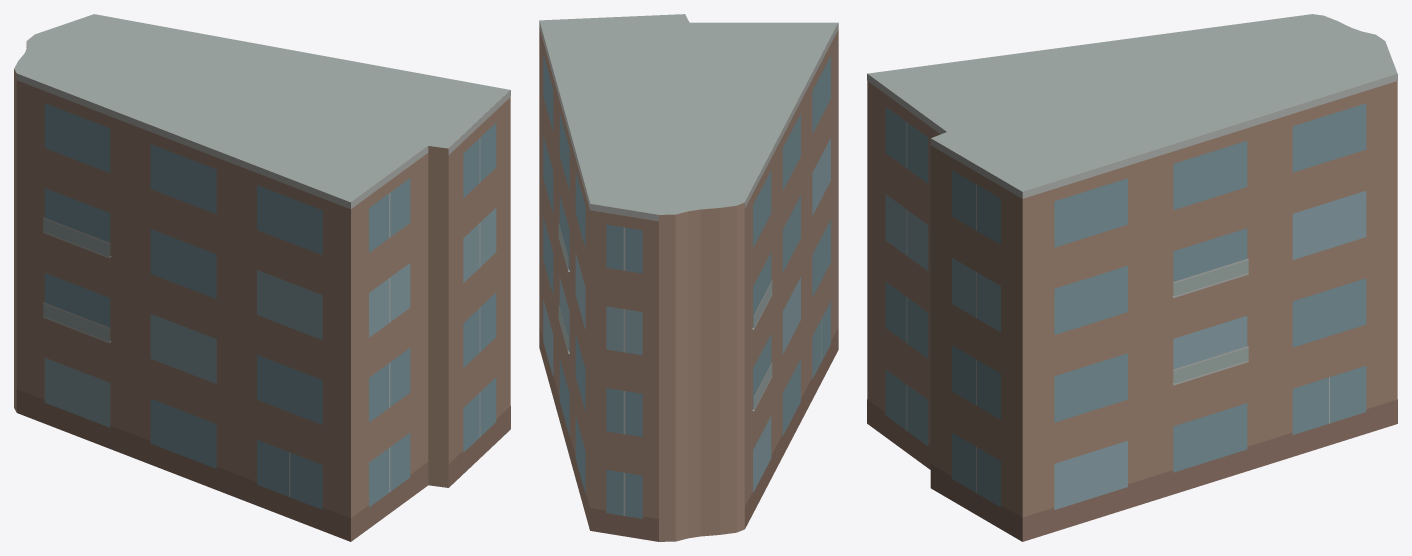
File: survey-upis-32906742.glb
The picture shows the model from 3 angles, left to right: view 1: azimuth 30°, elevation 25°; view 2: azimuth 150°, elevation 25°; view 3: azimuth 270°, elevation 25°; orthographic projection. The views are drawn at different scales.
Visible parts, largest first — view 1: survey-upis-32906742.tmp; view 2: survey-upis-32906742.tmp; view 3: survey-upis-32906742.tmp.
Part boxes in pixels (box(x1,y1,x2,y2)): survey-upis-32906742.tmp: box(14, 14, 510, 541); survey-upis-32906742.tmp: box(539, 14, 838, 541); survey-upis-32906742.tmp: box(867, 14, 1397, 541).
Bounding box in the file's own units: 13.31 × 12.2 × 16.77.
